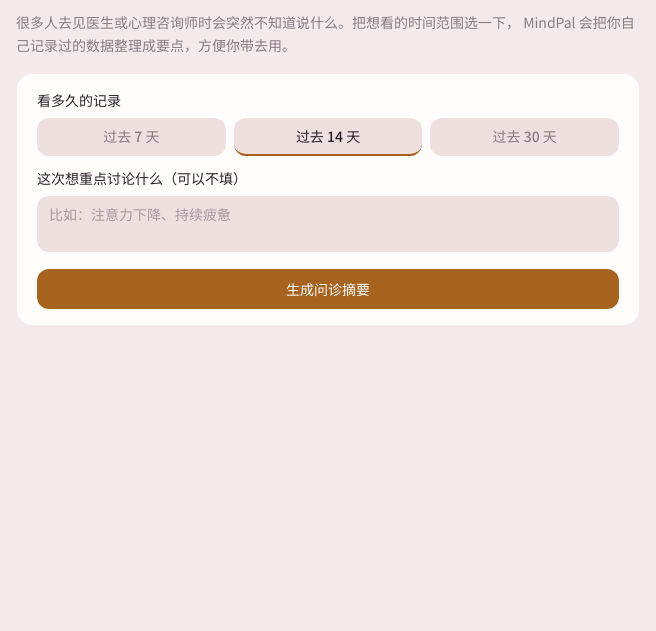
Test case: AppointmentSummaryView › shows an error message when PDF download fails
Click the button "生成问诊摘要".
click(328, 288)  # box top-left (37, 268), bottom-right (619, 308)
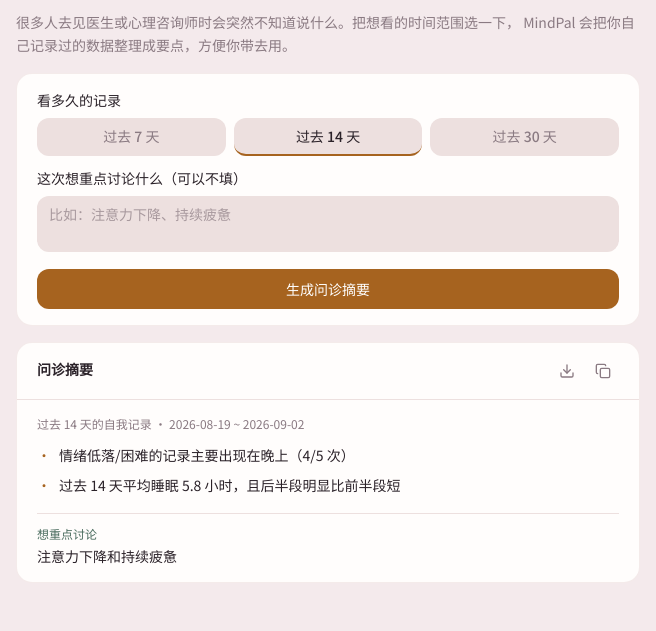
expect the text "问诊摘要" is shown: met, box top-left (37, 360), bottom-right (93, 380)
Click the button titled "下载正式报告 PDF".
click(567, 370)  # box top-left (551, 354), bottom-right (583, 386)
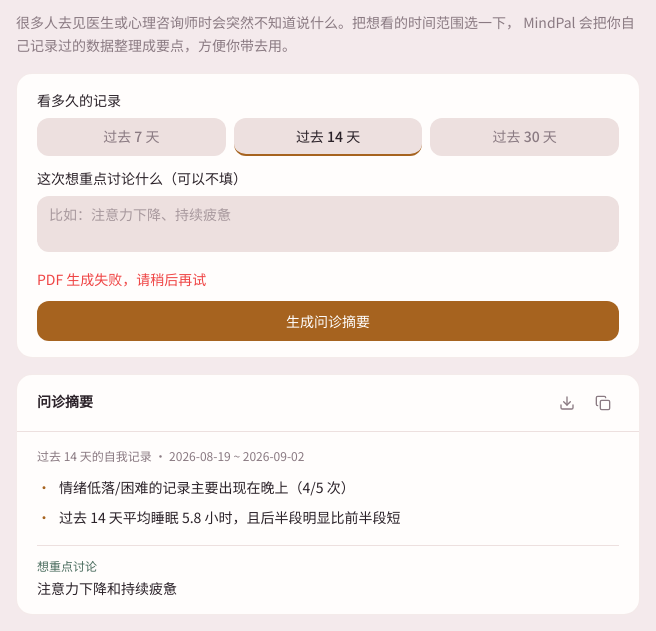
expect the text "PDF 生成失败，请稍后再试" is shown: met, box top-left (37, 268), bottom-right (206, 288)
